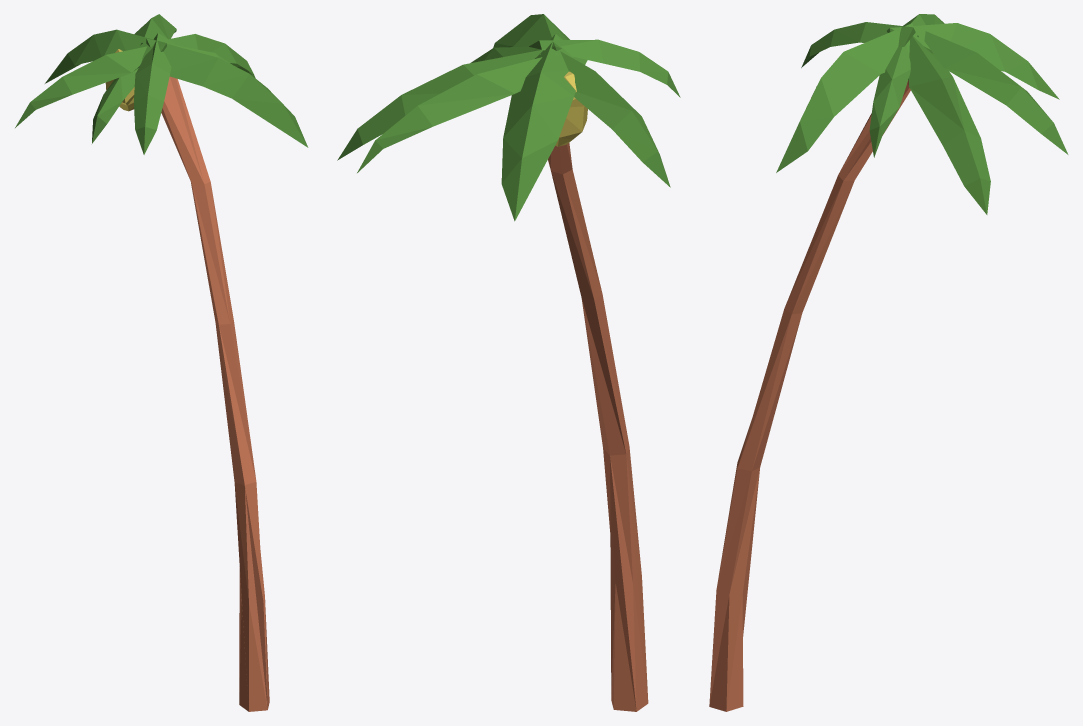
The model's file is Tree_12_summer_mat.fbx.
The picture shows the model from 3 angles, left to right: view 1: azimuth 30°, elevation 25°; view 2: azimuth 150°, elevation 25°; view 3: azimuth 270°, elevation 25°; orthographic projection. The views are drawn at different scales.
Parts seen in each view (by area): view 1: Tree_12_summer_mat; view 2: Tree_12_summer_mat; view 3: Tree_12_summer_mat.
Boxes of the visible parts, box(x1,y1,x2,y2) form: Tree_12_summer_mat: box(15, 14, 308, 711); Tree_12_summer_mat: box(337, 14, 680, 711); Tree_12_summer_mat: box(709, 14, 1068, 711).
Size of the model in its own units: 80.91 by 183 by 88.81.
